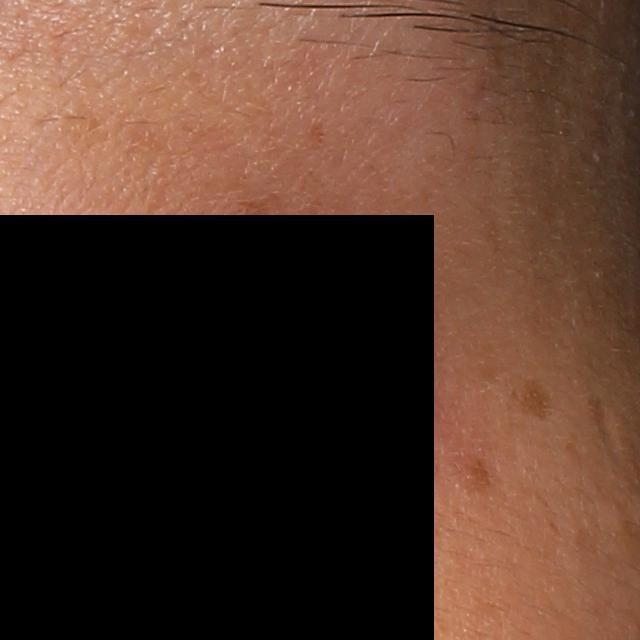melasma: (517, 370, 560, 422), (232, 189, 282, 233), (464, 457, 491, 497)
